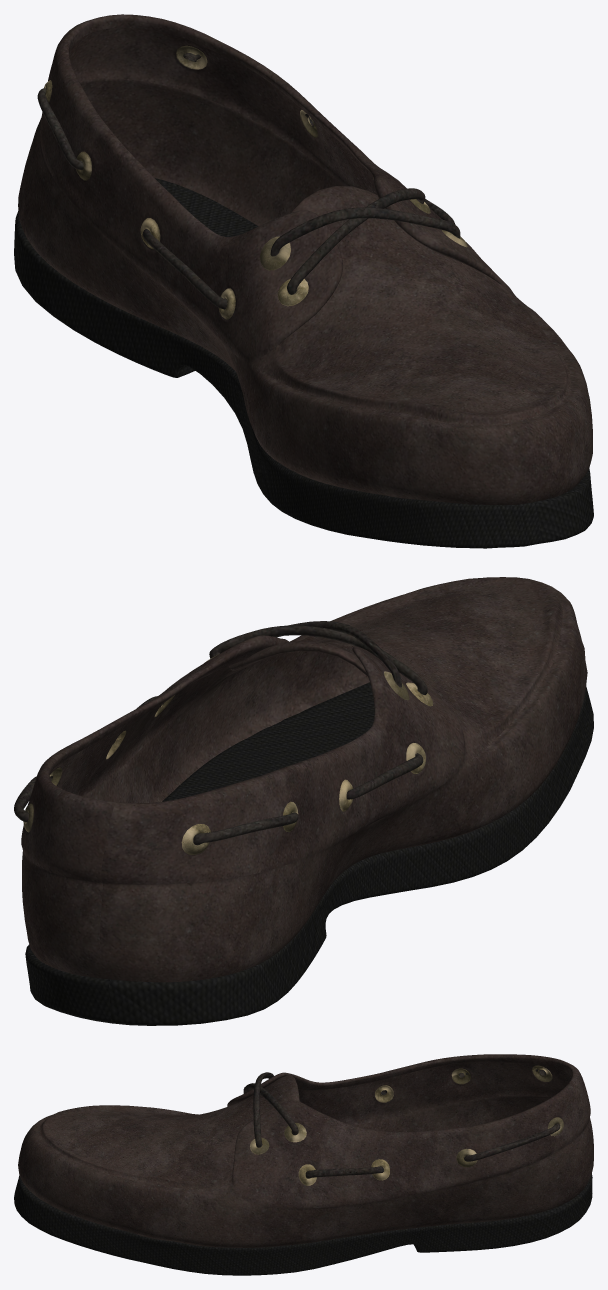
Rendered from shoe02.FBX.
The picture shows the model from 3 angles, top to bottom: view 1: azimuth 30°, elevation 25°; view 2: azimuth 150°, elevation 25°; view 3: azimuth 270°, elevation 25°; orthographic projection. The views are drawn at different scales.
Parts seen in each view (by area): view 1: TEEN_shoesRt_STD; view 2: TEEN_shoesRt_STD; view 3: TEEN_shoesRt_STD.
Part boxes in pixels (x1,y1,x2,y2): TEEN_shoesRt_STD: [14, 14, 593, 548]; TEEN_shoesRt_STD: [14, 577, 593, 1025]; TEEN_shoesRt_STD: [14, 1054, 593, 1275].
Size of the model in its own units: 11.8 by 9.64 by 32.44.
